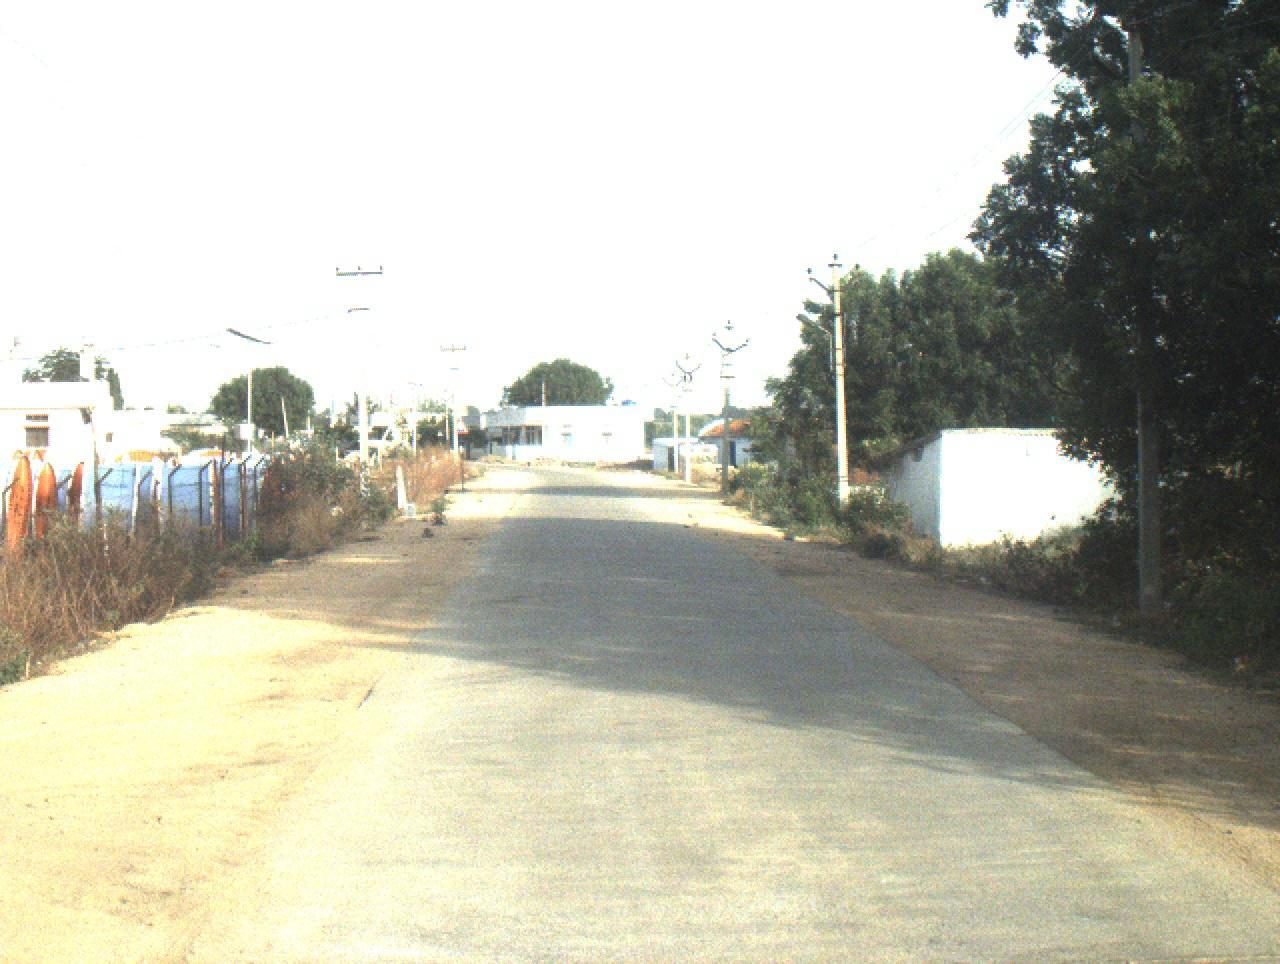off: (80, 56, 1280, 964)
